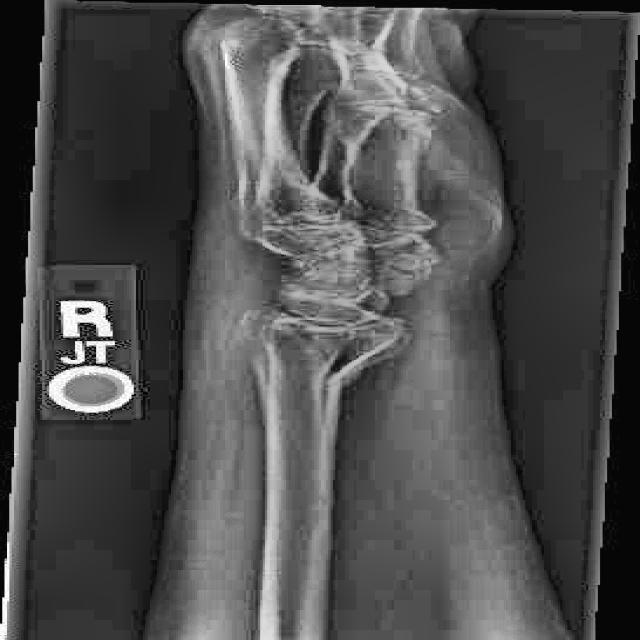wrist positive: (265, 345, 395, 395)
